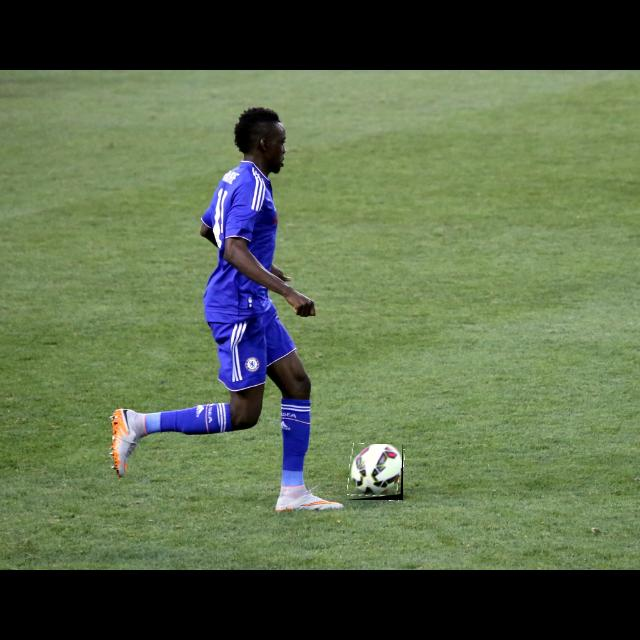Football: (349, 444, 403, 500)
